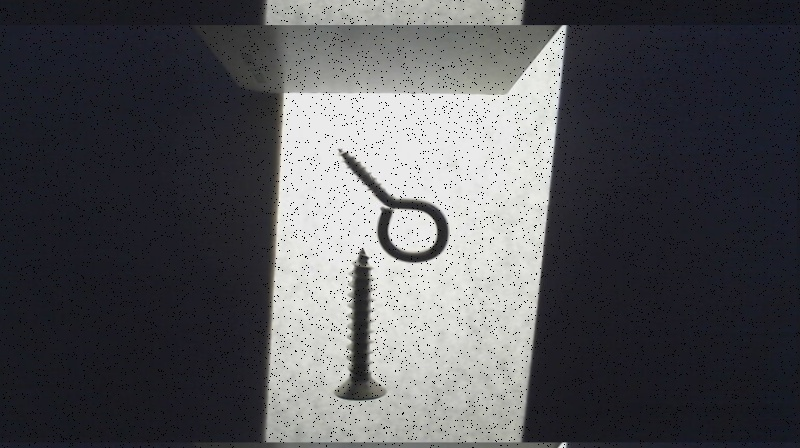O001: (336, 148, 449, 264)
S001: (333, 247, 387, 401)
